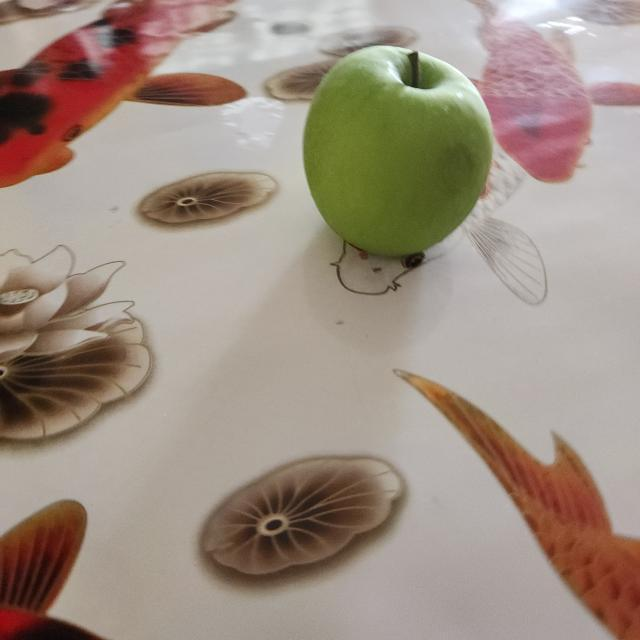apple: (298, 38, 499, 261)
